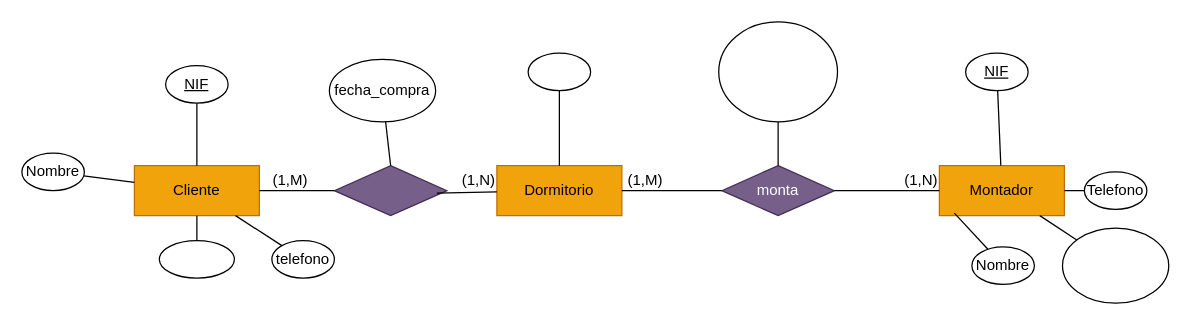
Image size: 1191x325. Some labels were removed from this diagram. Each missing label, with the box of its shape:
Codigo Modelo: (527, 52, 591, 91)
comprado: (333, 164, 447, 216)
Direccion: (158, 239, 234, 278)
Fecha_Montaje: (718, 21, 838, 122)
NºDormitorios Montados: (1061, 227, 1169, 303)
